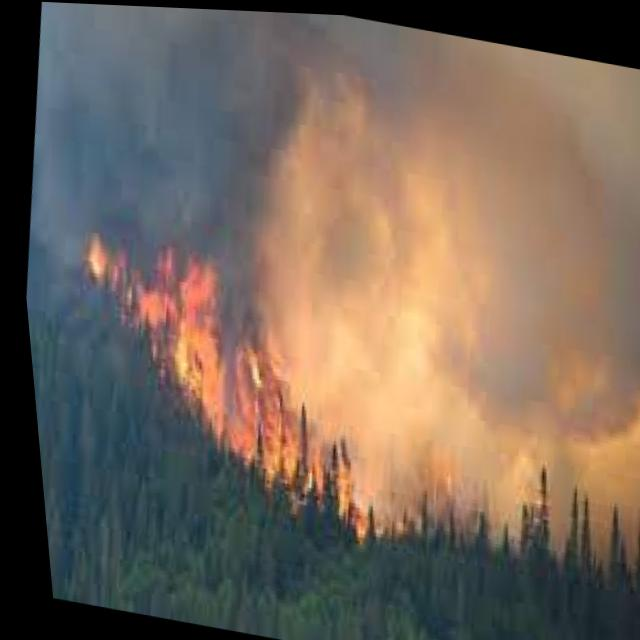Fire: (38, 220, 409, 555)
